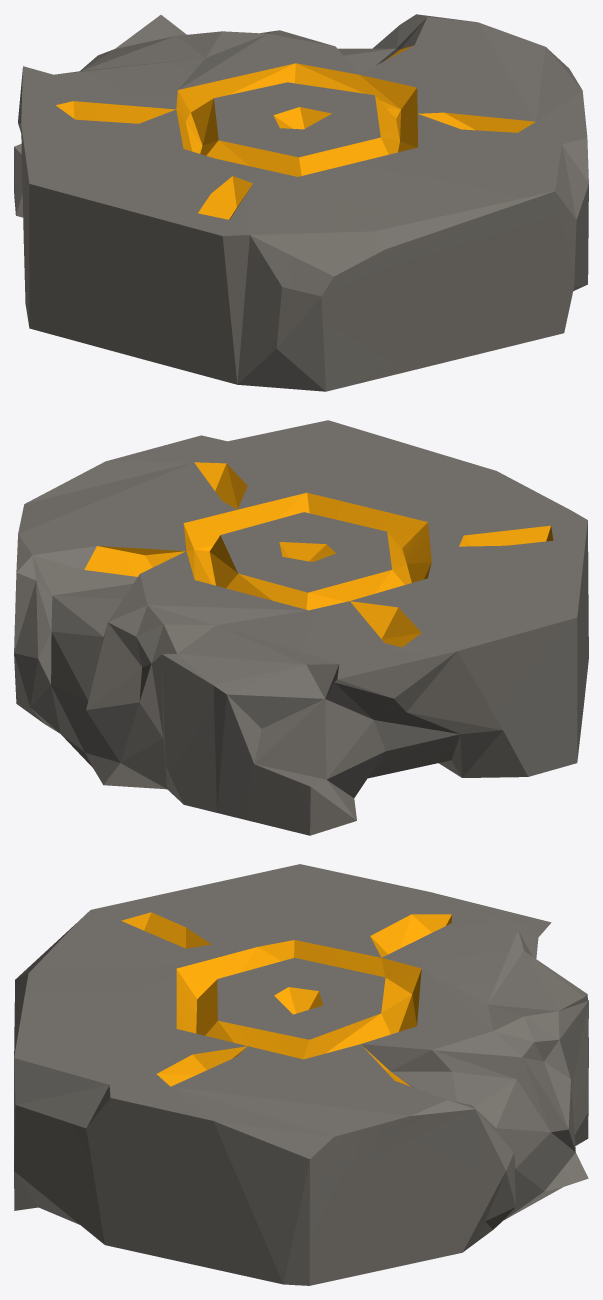
The model's file is SM_Env_Rounded_D_04.glb.
3 renders of one model, top to bottom at view 1: azimuth 30°, elevation 25°; view 2: azimuth 150°, elevation 25°; view 3: azimuth 270°, elevation 25°, orthographic. The views are drawn at different scales.
Parts seen in each view (by area): view 1: SM_Env_Rounded_D_04; view 2: SM_Env_Rounded_D_04; view 3: SM_Env_Rounded_D_04.
Boxes of the visible parts, x1=… form: SM_Env_Rounded_D_04: x1=14, y1=14, x2=588, y2=391; SM_Env_Rounded_D_04: x1=14, y1=420, x2=588, y2=835; SM_Env_Rounded_D_04: x1=14, y1=864, x2=588, y2=1285.
Bounding box in the file's own units: 2.71 × 0.6871 × 2.41.
1 material, 1 textured.
